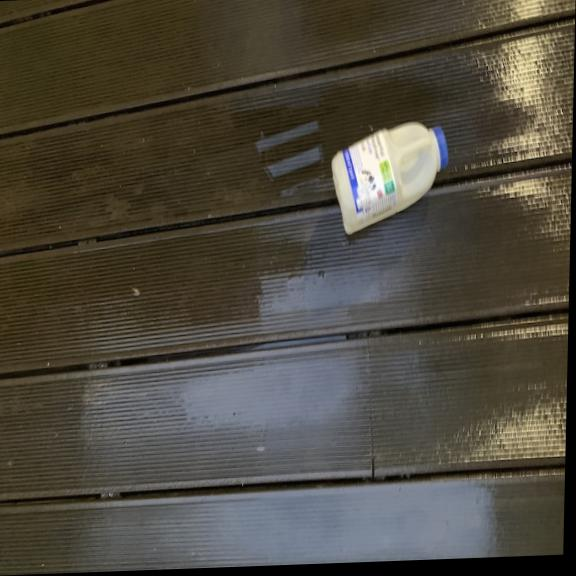Plastik: (330, 114, 455, 235)
